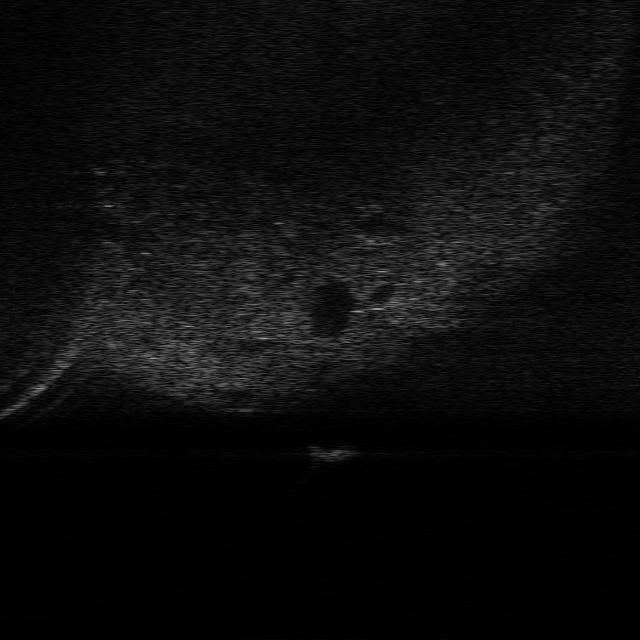cube: (310, 440, 361, 465)
